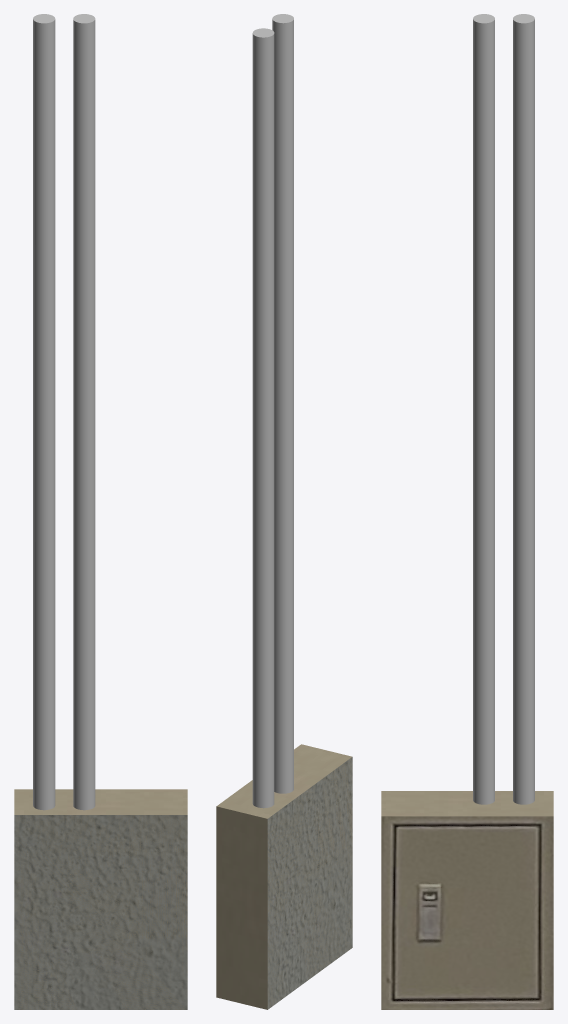
Rendered from bundenban2.dae.
The picture shows the model from 3 angles, left to right: view 1: azimuth 90°, elevation 25°; view 2: azimuth 150°, elevation 25°; view 3: azimuth 270°, elevation 25°; orthographic projection. The views are drawn at different scales.
Parts seen in each view (by area): view 1: group_1 (×2), コンポーネント_22 (×2); view 2: コンポーネント_22 (×2), group_1 (×2); view 3: group_1 (×2), コンポーネント_22 (×2).
Boxes of the visible parts, x1,y1,x2,y2 form: group_1 (×2): (14,789,187,1009); コンポーネント_22 (×2): (33,14,95,810); コンポーネント_22 (×2): (252,14,293,808); group_1 (×2): (216,744,352,1009); group_1 (×2): (381,791,553,1009); コンポーネント_22 (×2): (473,14,534,804).
Size of the model in its own units: 3.98 by 11.42 by 71.33.
4 materials, 3 textured.
